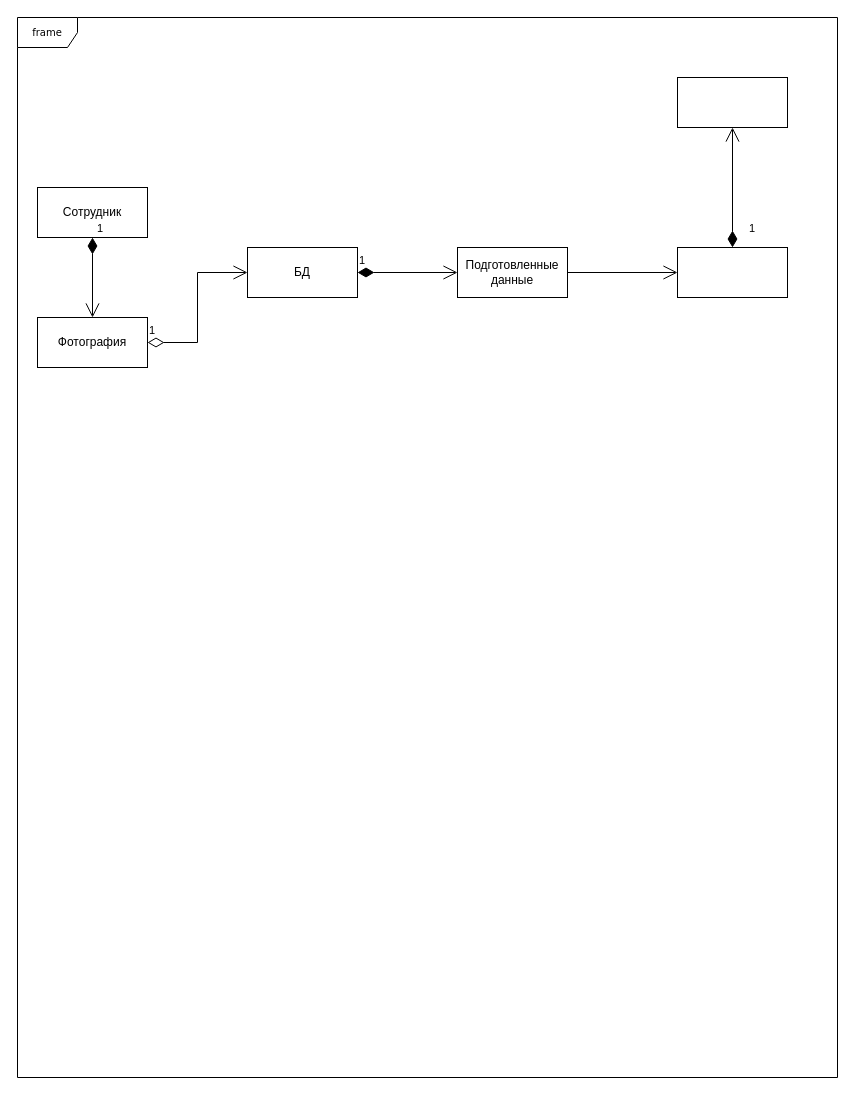
Some shapes in this 855 by 1095 pixel diagram are drawn without their labels. The centre of each missing label's shape, as x and y in pixels:
Нейронная сеть: point 732,272
Обученная модель: point 732,102
